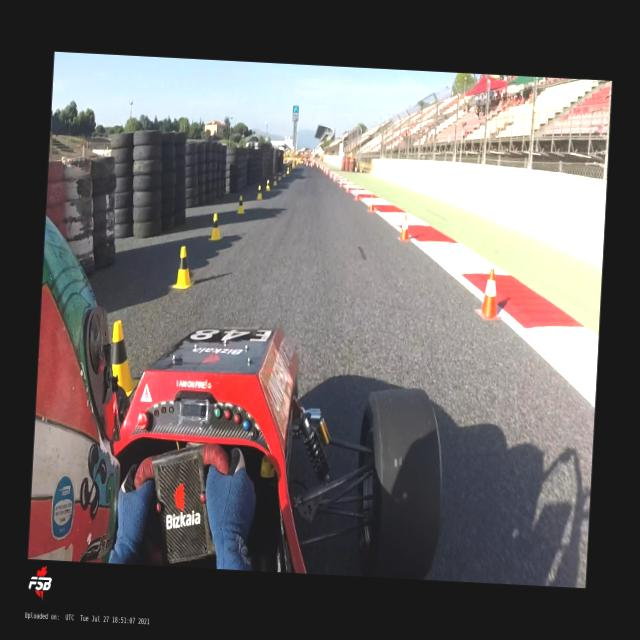orange_cone: (476, 268, 504, 320), (398, 214, 412, 242), (368, 194, 375, 212), (354, 187, 360, 200), (346, 182, 350, 192), (340, 178, 343, 188), (334, 175, 336, 181)
yellow_cone: (108, 320, 142, 398), (172, 245, 196, 290), (208, 212, 225, 241), (237, 194, 246, 214), (256, 184, 263, 200), (272, 175, 278, 186), (266, 179, 270, 192), (278, 171, 282, 181), (282, 168, 286, 178), (286, 167, 290, 174)
